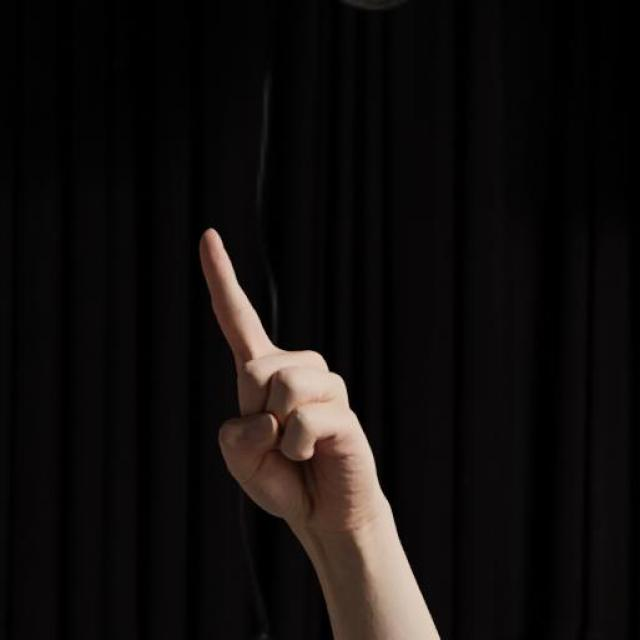Z: (195, 226, 394, 540)
